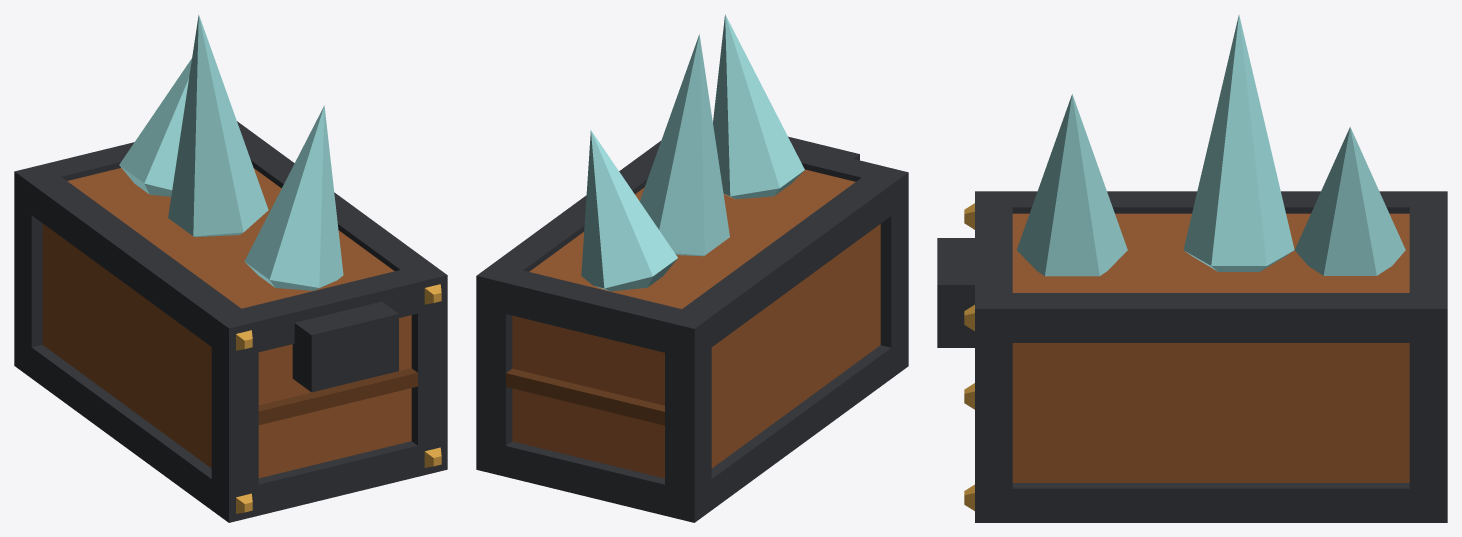
The model's file is TeslaKit6.obj.
The picture shows the model from 3 angles, left to right: view 1: azimuth 30°, elevation 25°; view 2: azimuth 150°, elevation 25°; view 3: azimuth 270°, elevation 25°; orthographic projection. The views are drawn at different scales.
Visible parts, largest first — view 1: TeslaKit6; view 2: TeslaKit6; view 3: TeslaKit6.
Part boxes in pixels (box(x1,y1,x2,y2)): TeslaKit6: box(14, 14, 447, 522); TeslaKit6: box(476, 14, 908, 522); TeslaKit6: box(937, 14, 1447, 522).
Size of the model in its own units: 0.2 by 0.3491 by 0.367.
